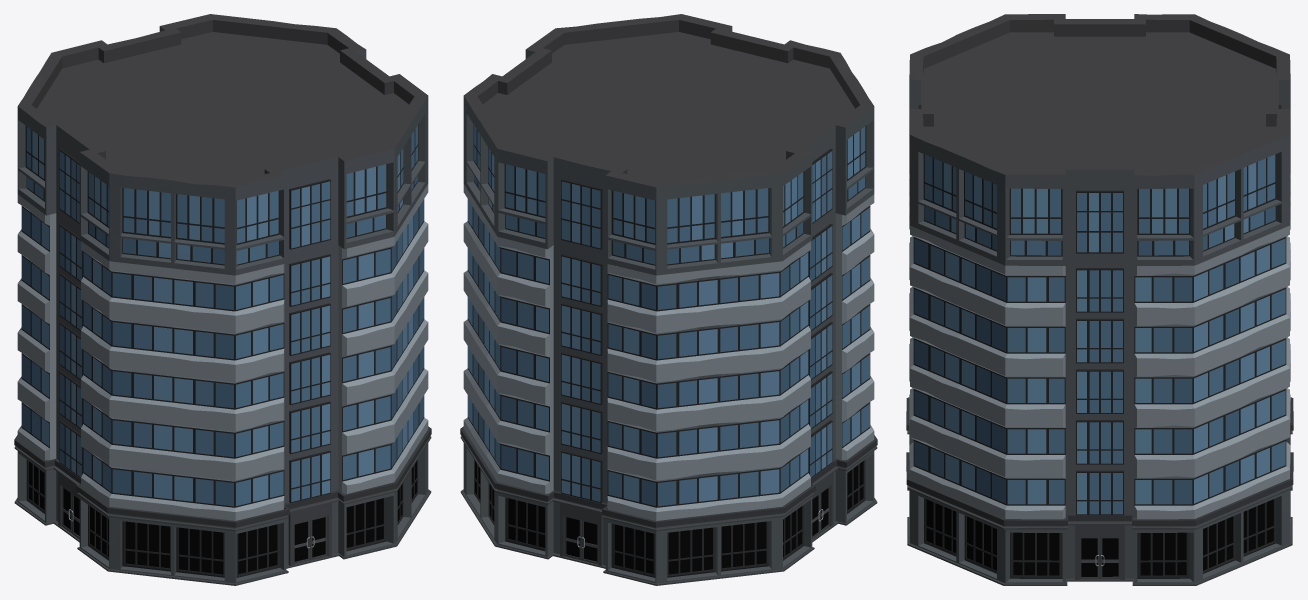
Rendered from SM_OfficeOctagon.glb.
3 views of the same model, side by side, from view 1: azimuth 30°, elevation 25°; view 2: azimuth 150°, elevation 25°; view 3: azimuth 270°, elevation 25° (orthographic). The views are drawn at different scales.
Visible parts, largest first — view 1: SM_Bld_OfficeOctagon_Base_01_Glass; view 2: SM_Bld_OfficeOctagon_Base_01_Glass; view 3: SM_Bld_OfficeOctagon_Base_01_Glass.
Boxes of the visible parts, x1,y1,x2,y2 form: SM_Bld_OfficeOctagon_Base_01_Glass: (14,14,431,585); SM_Bld_OfficeOctagon_Base_01_Glass: (460,14,877,585); SM_Bld_OfficeOctagon_Base_01_Glass: (906,14,1293,585).
Size of the model in its own units: 20.78 by 24.28 by 20.78.
4 materials, 3 textured.
